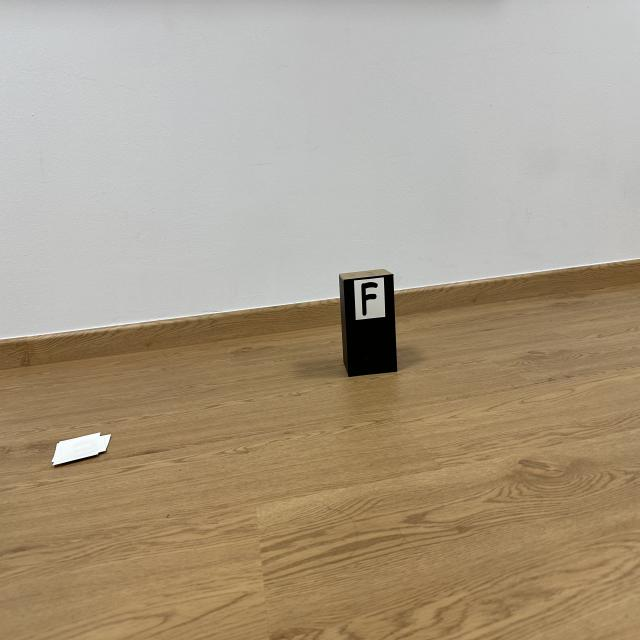F: (361, 282, 378, 317)
